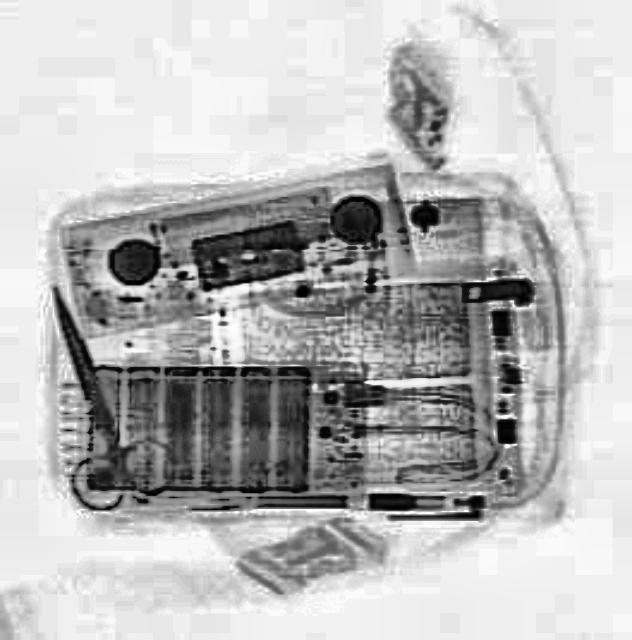Scissors: (0, 268, 182, 514)
